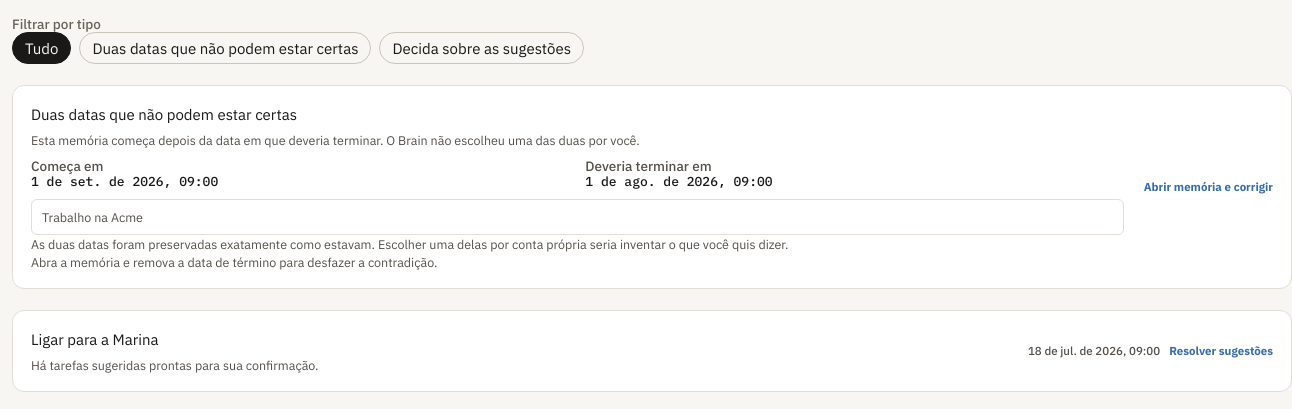
Test: the filter, widened by exactly one › narrows to conflicts only, hiding the entry rows
The width and height of the screenshot is (1292, 409).
Step 1. Click the button "Duas datas que não podem estar certas" → (226, 48), box [80,32,372,64]
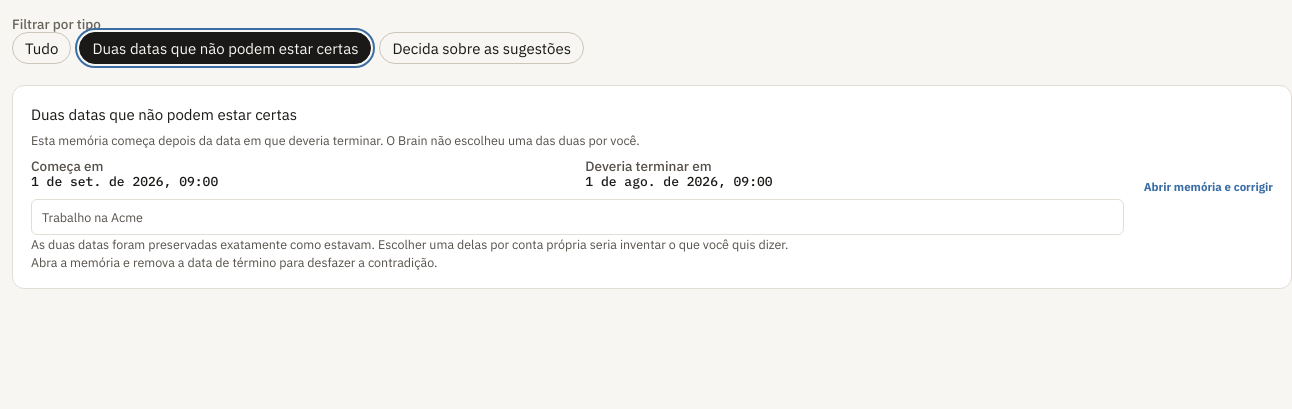
Expected: the text "Trabalho na Acme" is shown, [31,199,1124,235]
Expected: the link "Ligar para a Marina" is gone
